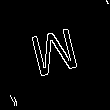M_S: (27, 25, 83, 85)
